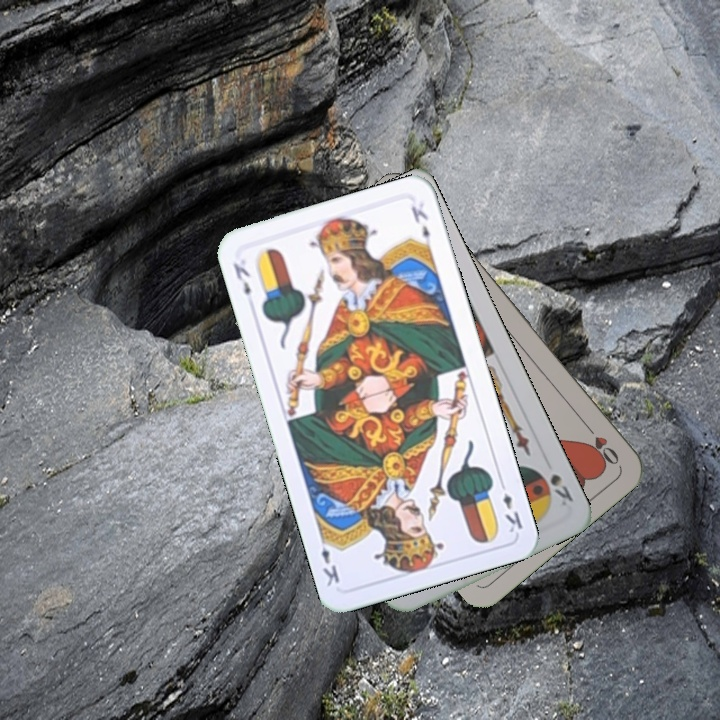EK: (495, 476, 525, 536), (229, 259, 253, 298)
HO: (580, 418, 622, 468)
SK: (545, 469, 576, 509)
